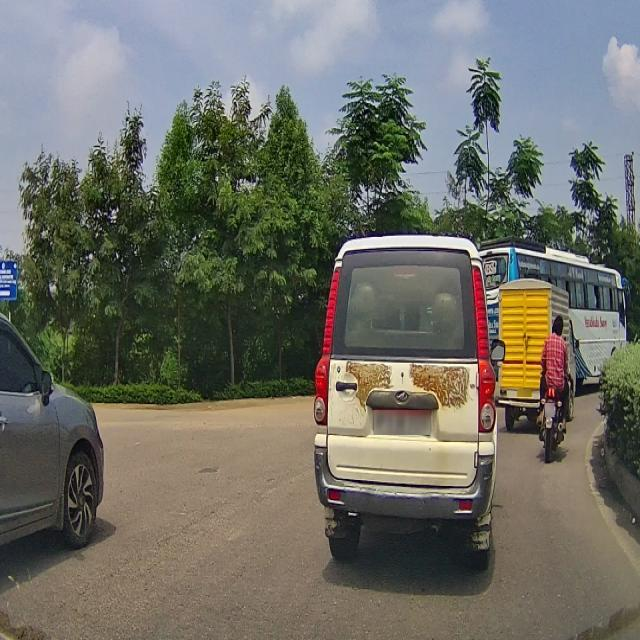car ahead at: (306, 232, 511, 573), (0, 307, 108, 573)
motorcycle ahead at: (534, 380, 576, 468)
